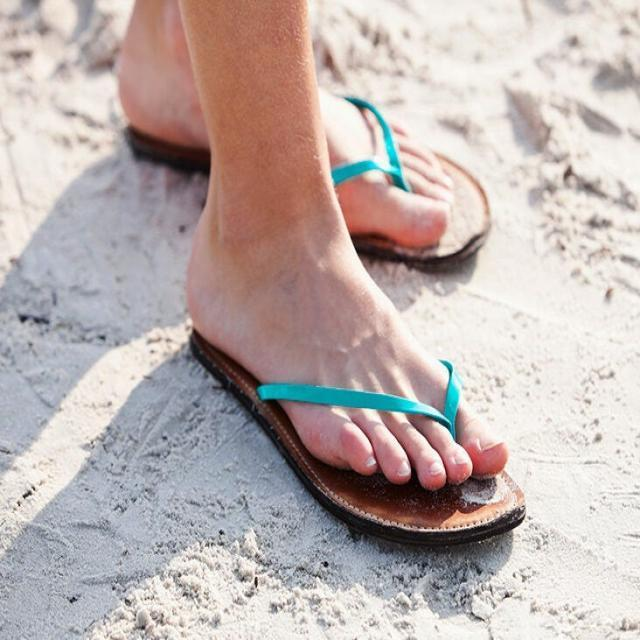No_Shoe: (185, 213, 512, 510)
